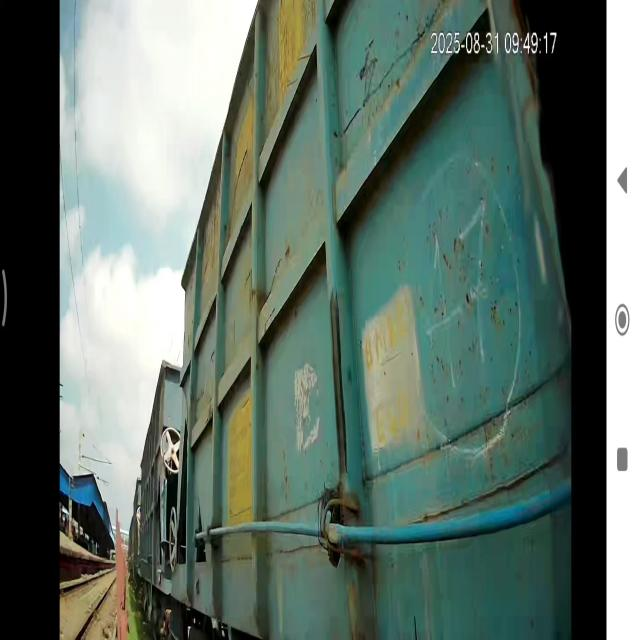coach: (174, 13, 601, 640)
